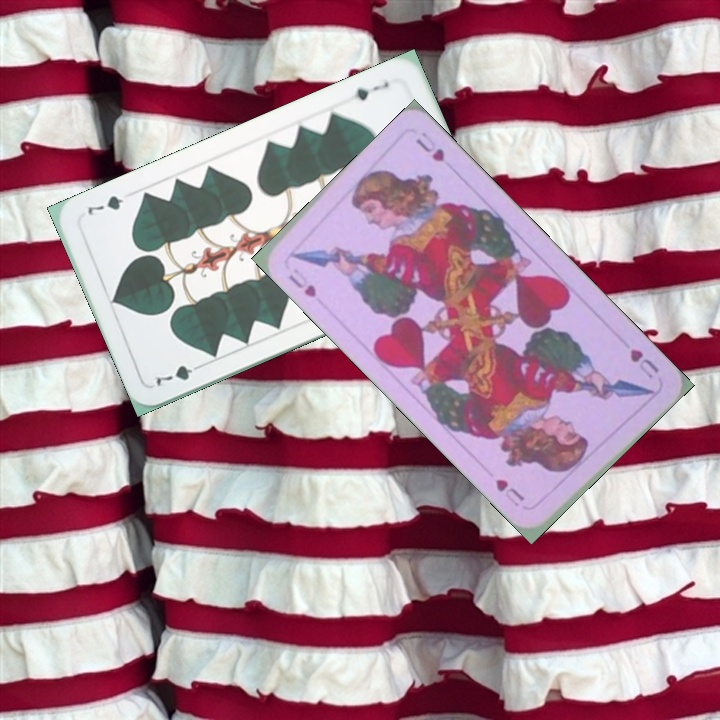G7: (150, 359, 207, 389), (343, 77, 392, 103)
HU: (626, 344, 662, 381), (284, 267, 319, 300)
